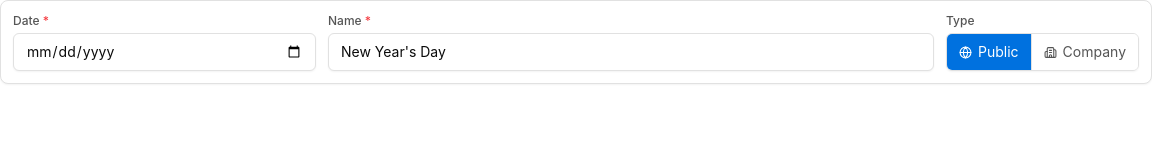
HolidayForm › date validation › shows error for invalid date format
Click the date field labelled "Date *": (164, 52) [13,33,316,71]
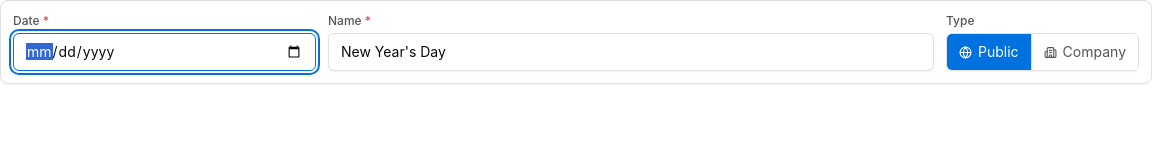
Press Tab
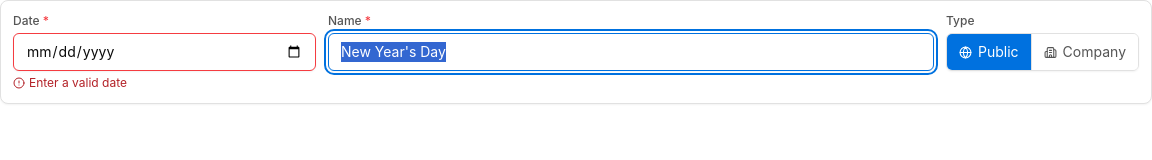
Expected: the text "Enter a valid date" is shown, [13,75,127,90]
